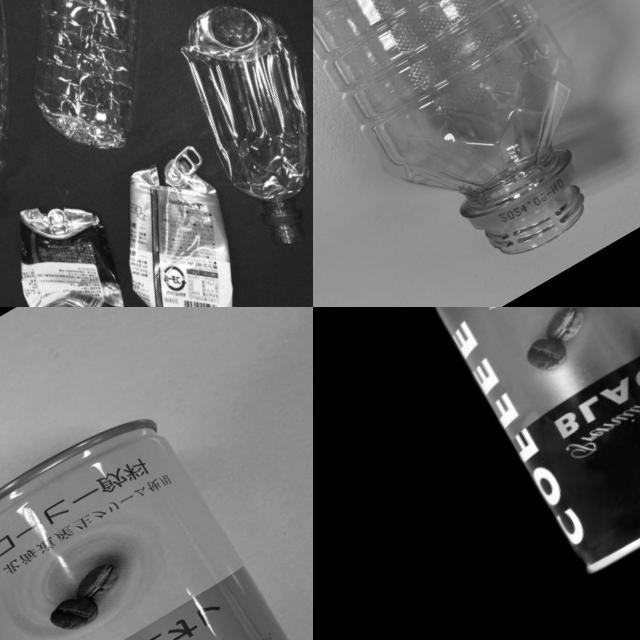Can: (0, 394, 313, 640), (399, 307, 640, 592), (87, 148, 281, 307), (0, 179, 159, 307)
Transparent Plastic Bottle: (313, 0, 640, 302), (151, 0, 313, 262), (0, 0, 241, 173), (0, 0, 104, 243)
